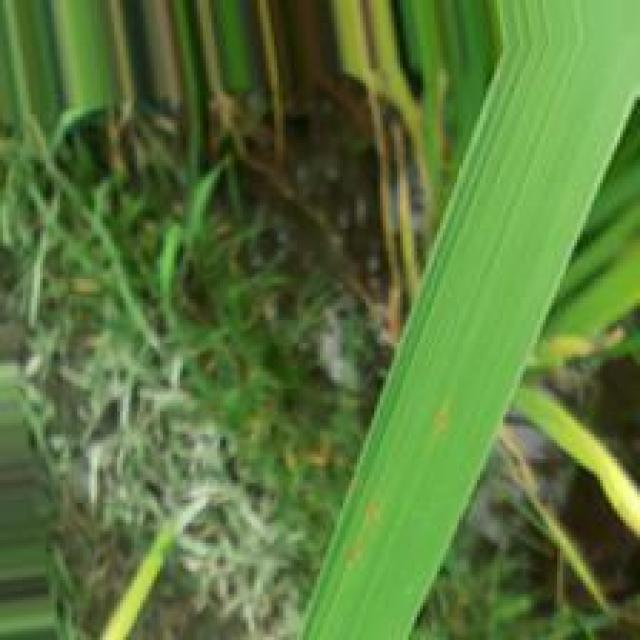HealthyLeaf: (364, 43, 636, 638)
